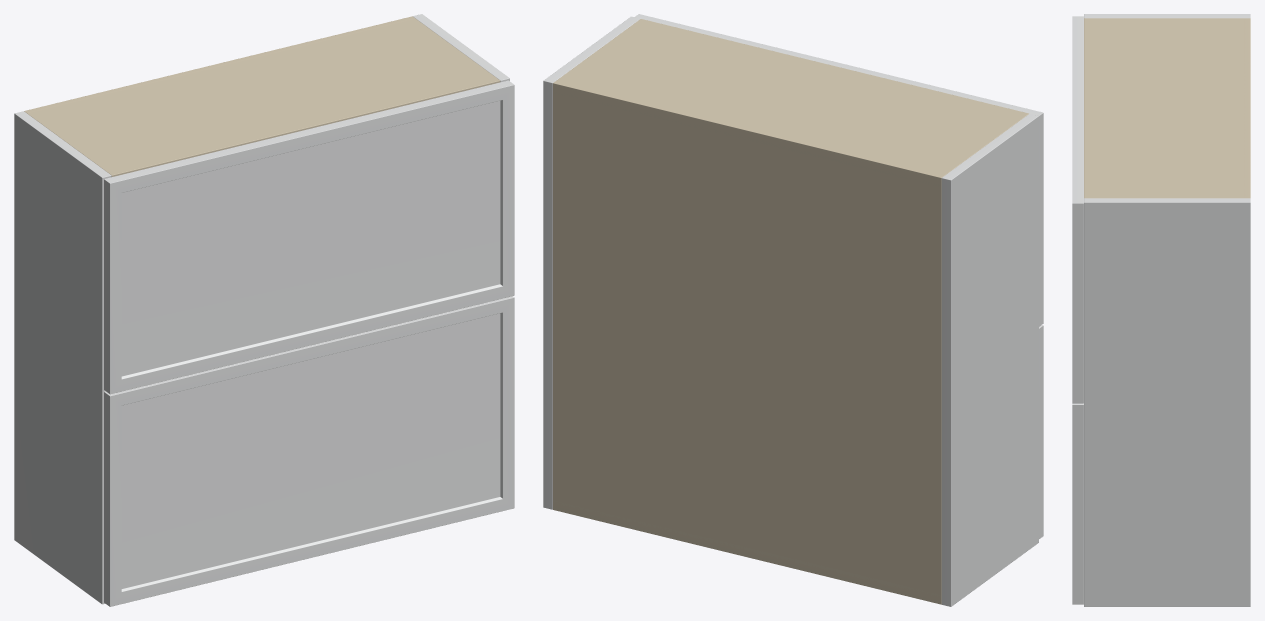
Rendered from oppein-ply-ssw-wbf3030.glb.
3 views of the same model, side by side, from view 1: azimuth 30°, elevation 25°; view 2: azimuth 150°, elevation 25°; view 3: azimuth 270°, elevation 25° (orthographic). The views are drawn at different scales.
Parts seen in each view (by area): view 1: Door.001, Door, Cabinet side, Cabinet top, Cabinet back, Cabinet side.001; view 2: Cabinet back, Cabinet side, Cabinet top, Cabinet side.001, Cabinet bottom, Door.001, Door; view 3: Cabinet side.001, Cabinet top, Door.001, Door, Cabinet back, Cabinet side.
Part boxes in pixels (x1,y1,x2,y2): Door.001: (104, 80, 514, 394); Door: (104, 296, 514, 606); Cabinet side: (14, 111, 111, 604); Cabinet top: (24, 18, 500, 176); Cabinet back: (24, 16, 415, 113); Cabinet side.001: (413, 14, 509, 82); Cabinet back: (553, 80, 944, 604); Cabinet side: (941, 113, 1038, 606); Cabinet top: (553, 19, 1028, 187); Cabinet side.001: (543, 16, 640, 509); Cabinet bottom: (553, 500, 941, 604); Door.001: (635, 14, 1043, 326); Door: (1039, 325, 1043, 538); Cabinet side.001: (1084, 198, 1250, 606); Cabinet top: (1084, 18, 1250, 198); Door.001: (1072, 16, 1083, 403); Door: (1072, 403, 1083, 604); Cabinet back: (1244, 18, 1250, 198); Cabinet side: (1084, 14, 1250, 18).
Bounding box in the file's own units: 0.762 × 0.762 × 0.3048.
